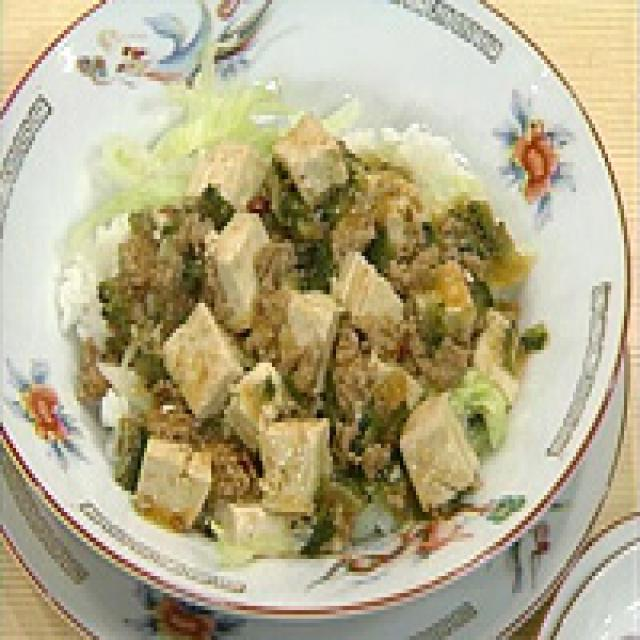豆腐料理: (0, 0, 640, 623)
